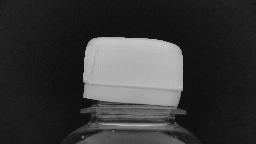Broken Cap: (72, 31, 194, 121)
